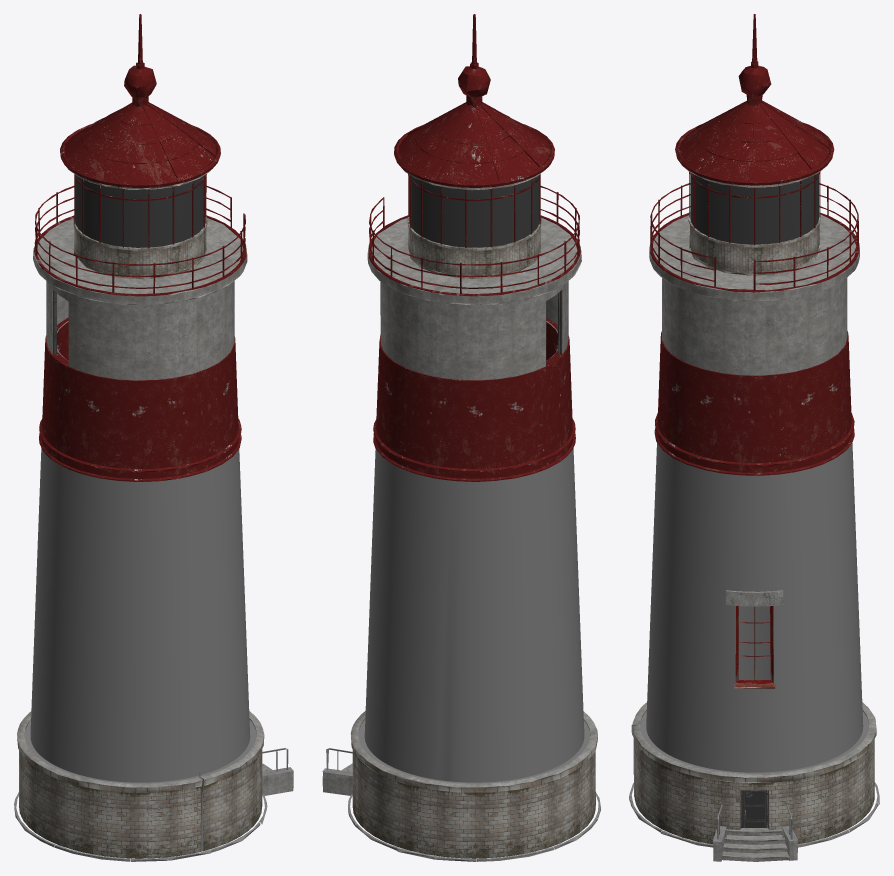
The model's file is light_tower.fbx.
3 views of the same model, side by side, from view 1: azimuth 30°, elevation 25°; view 2: azimuth 150°, elevation 25°; view 3: azimuth 270°, elevation 25° (orthographic).
Visible parts, largest first — view 1: polySurface554; view 2: polySurface554; view 3: polySurface554.
Boxes of the visible parts, x1,y1,x2,y2 form: polySurface554: [14, 14, 293, 861]; polySurface554: [322, 14, 600, 861]; polySurface554: [629, 14, 879, 861].
Bounding box in the file's own units: 858 × 2677 × 776.
